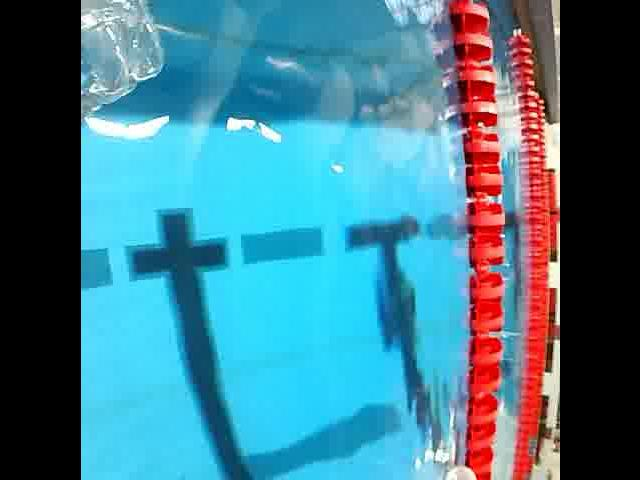Bottle: (80, 0, 172, 132), (429, 459, 481, 480)
